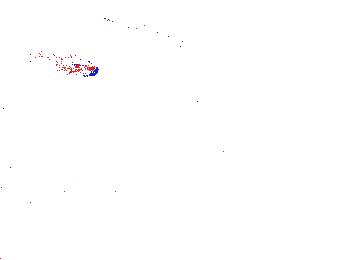glassfish: (83, 3, 212, 75)
red belly glassfish: (36, 49, 99, 79)
